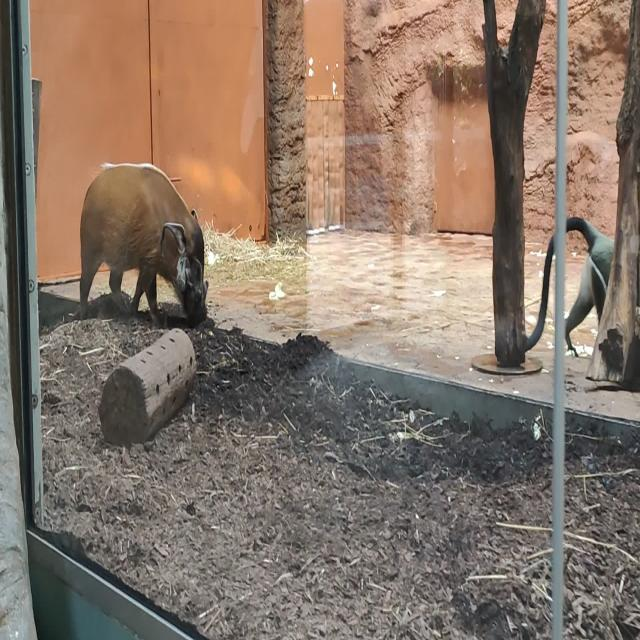bear: (80, 162, 208, 326), (526, 216, 615, 358)
